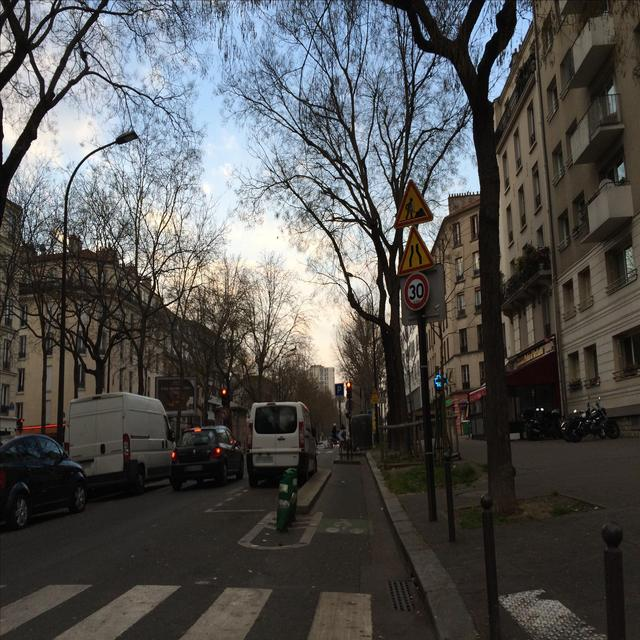Bicycle: (328, 435, 365, 455)
Billboard: (155, 376, 196, 416)
Car: (0, 392, 242, 529), (246, 400, 317, 487)
Manhole: (457, 490, 487, 496)
Motorcycle: (565, 395, 619, 441)
Trash Can: (461, 421, 467, 434)
Vegetation: (341, 403, 381, 430)
